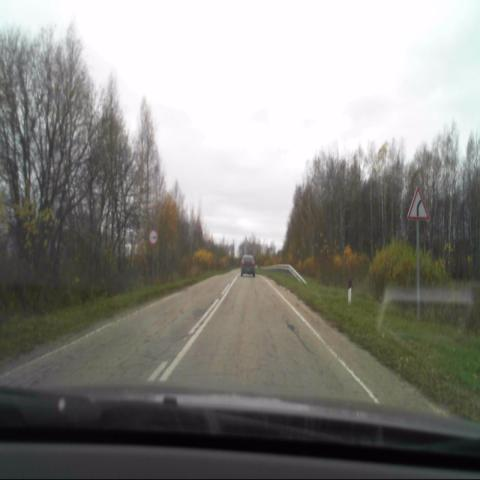1_11: (406, 185, 430, 219)
